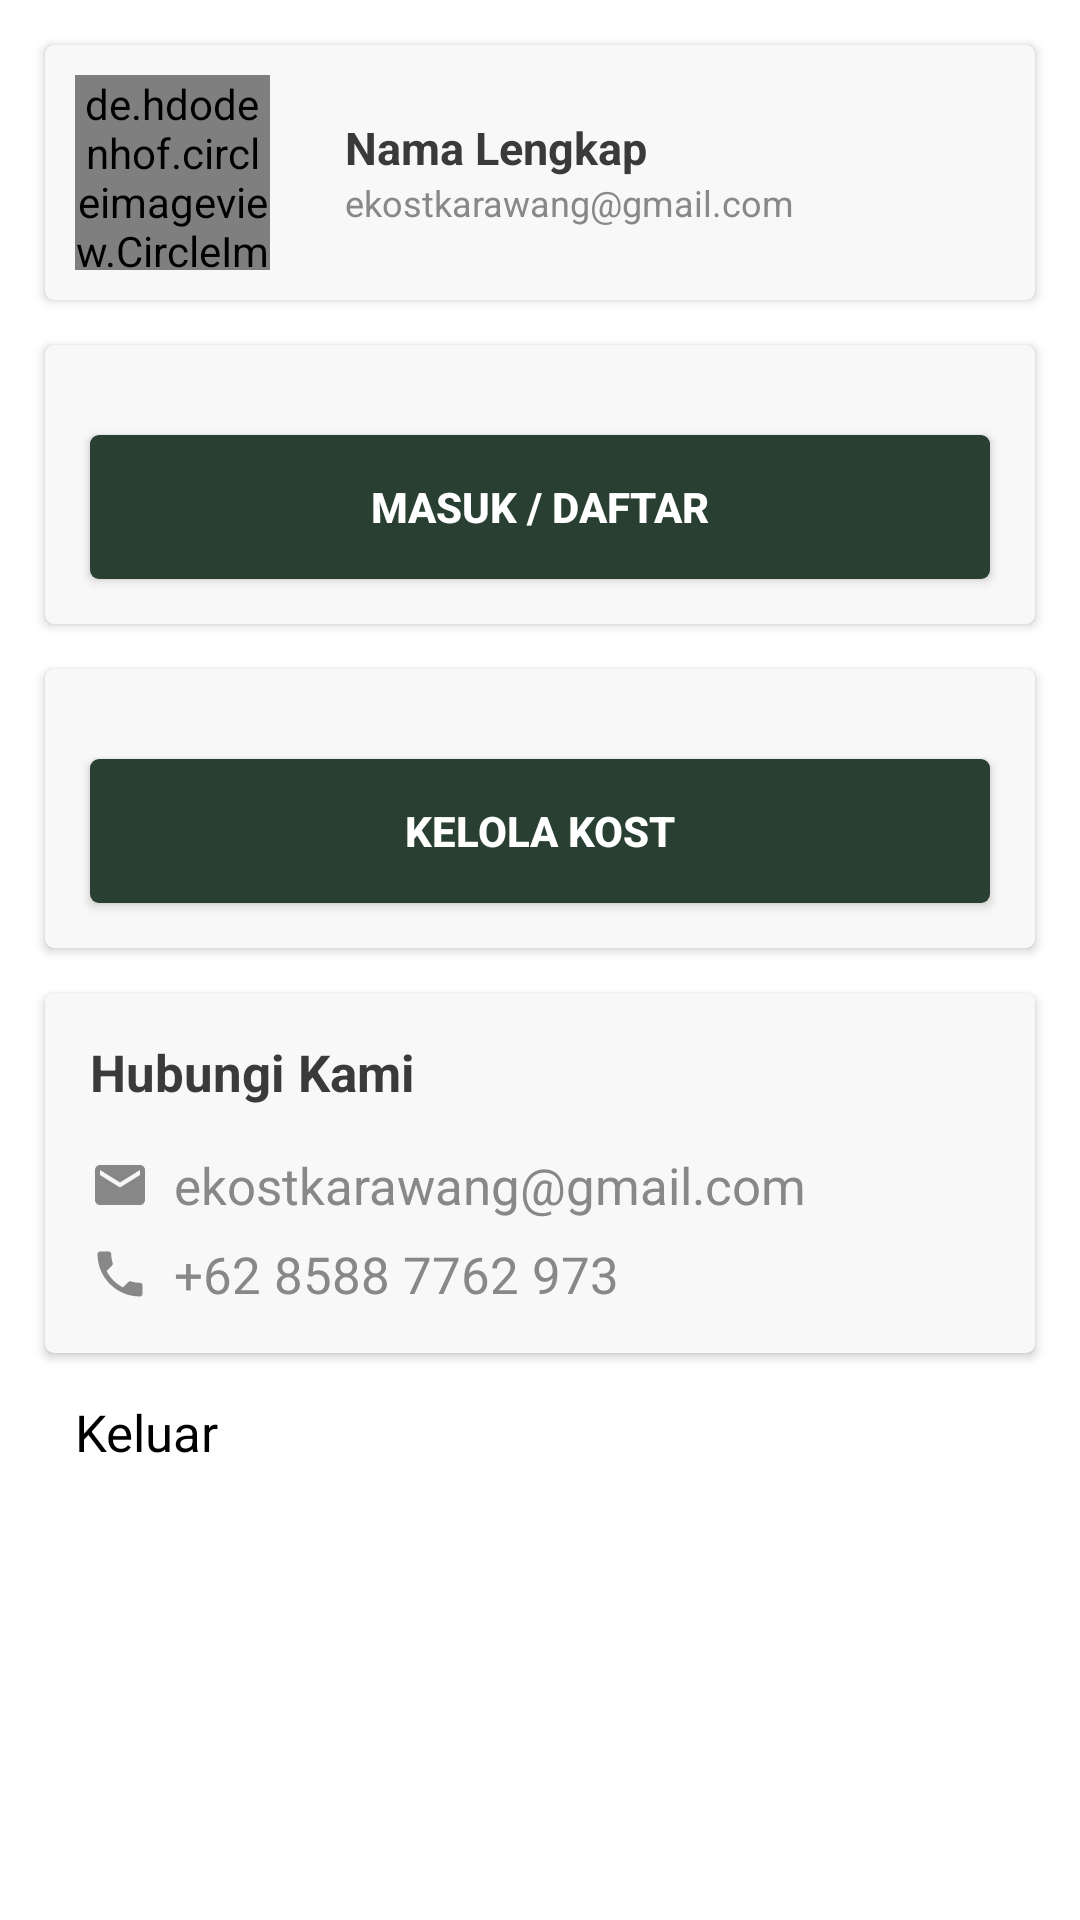

Named icons in this screenshot (1080 × 1920) and their centers, point (x, y):
call: point (120, 1274)
email: point (120, 1185)
